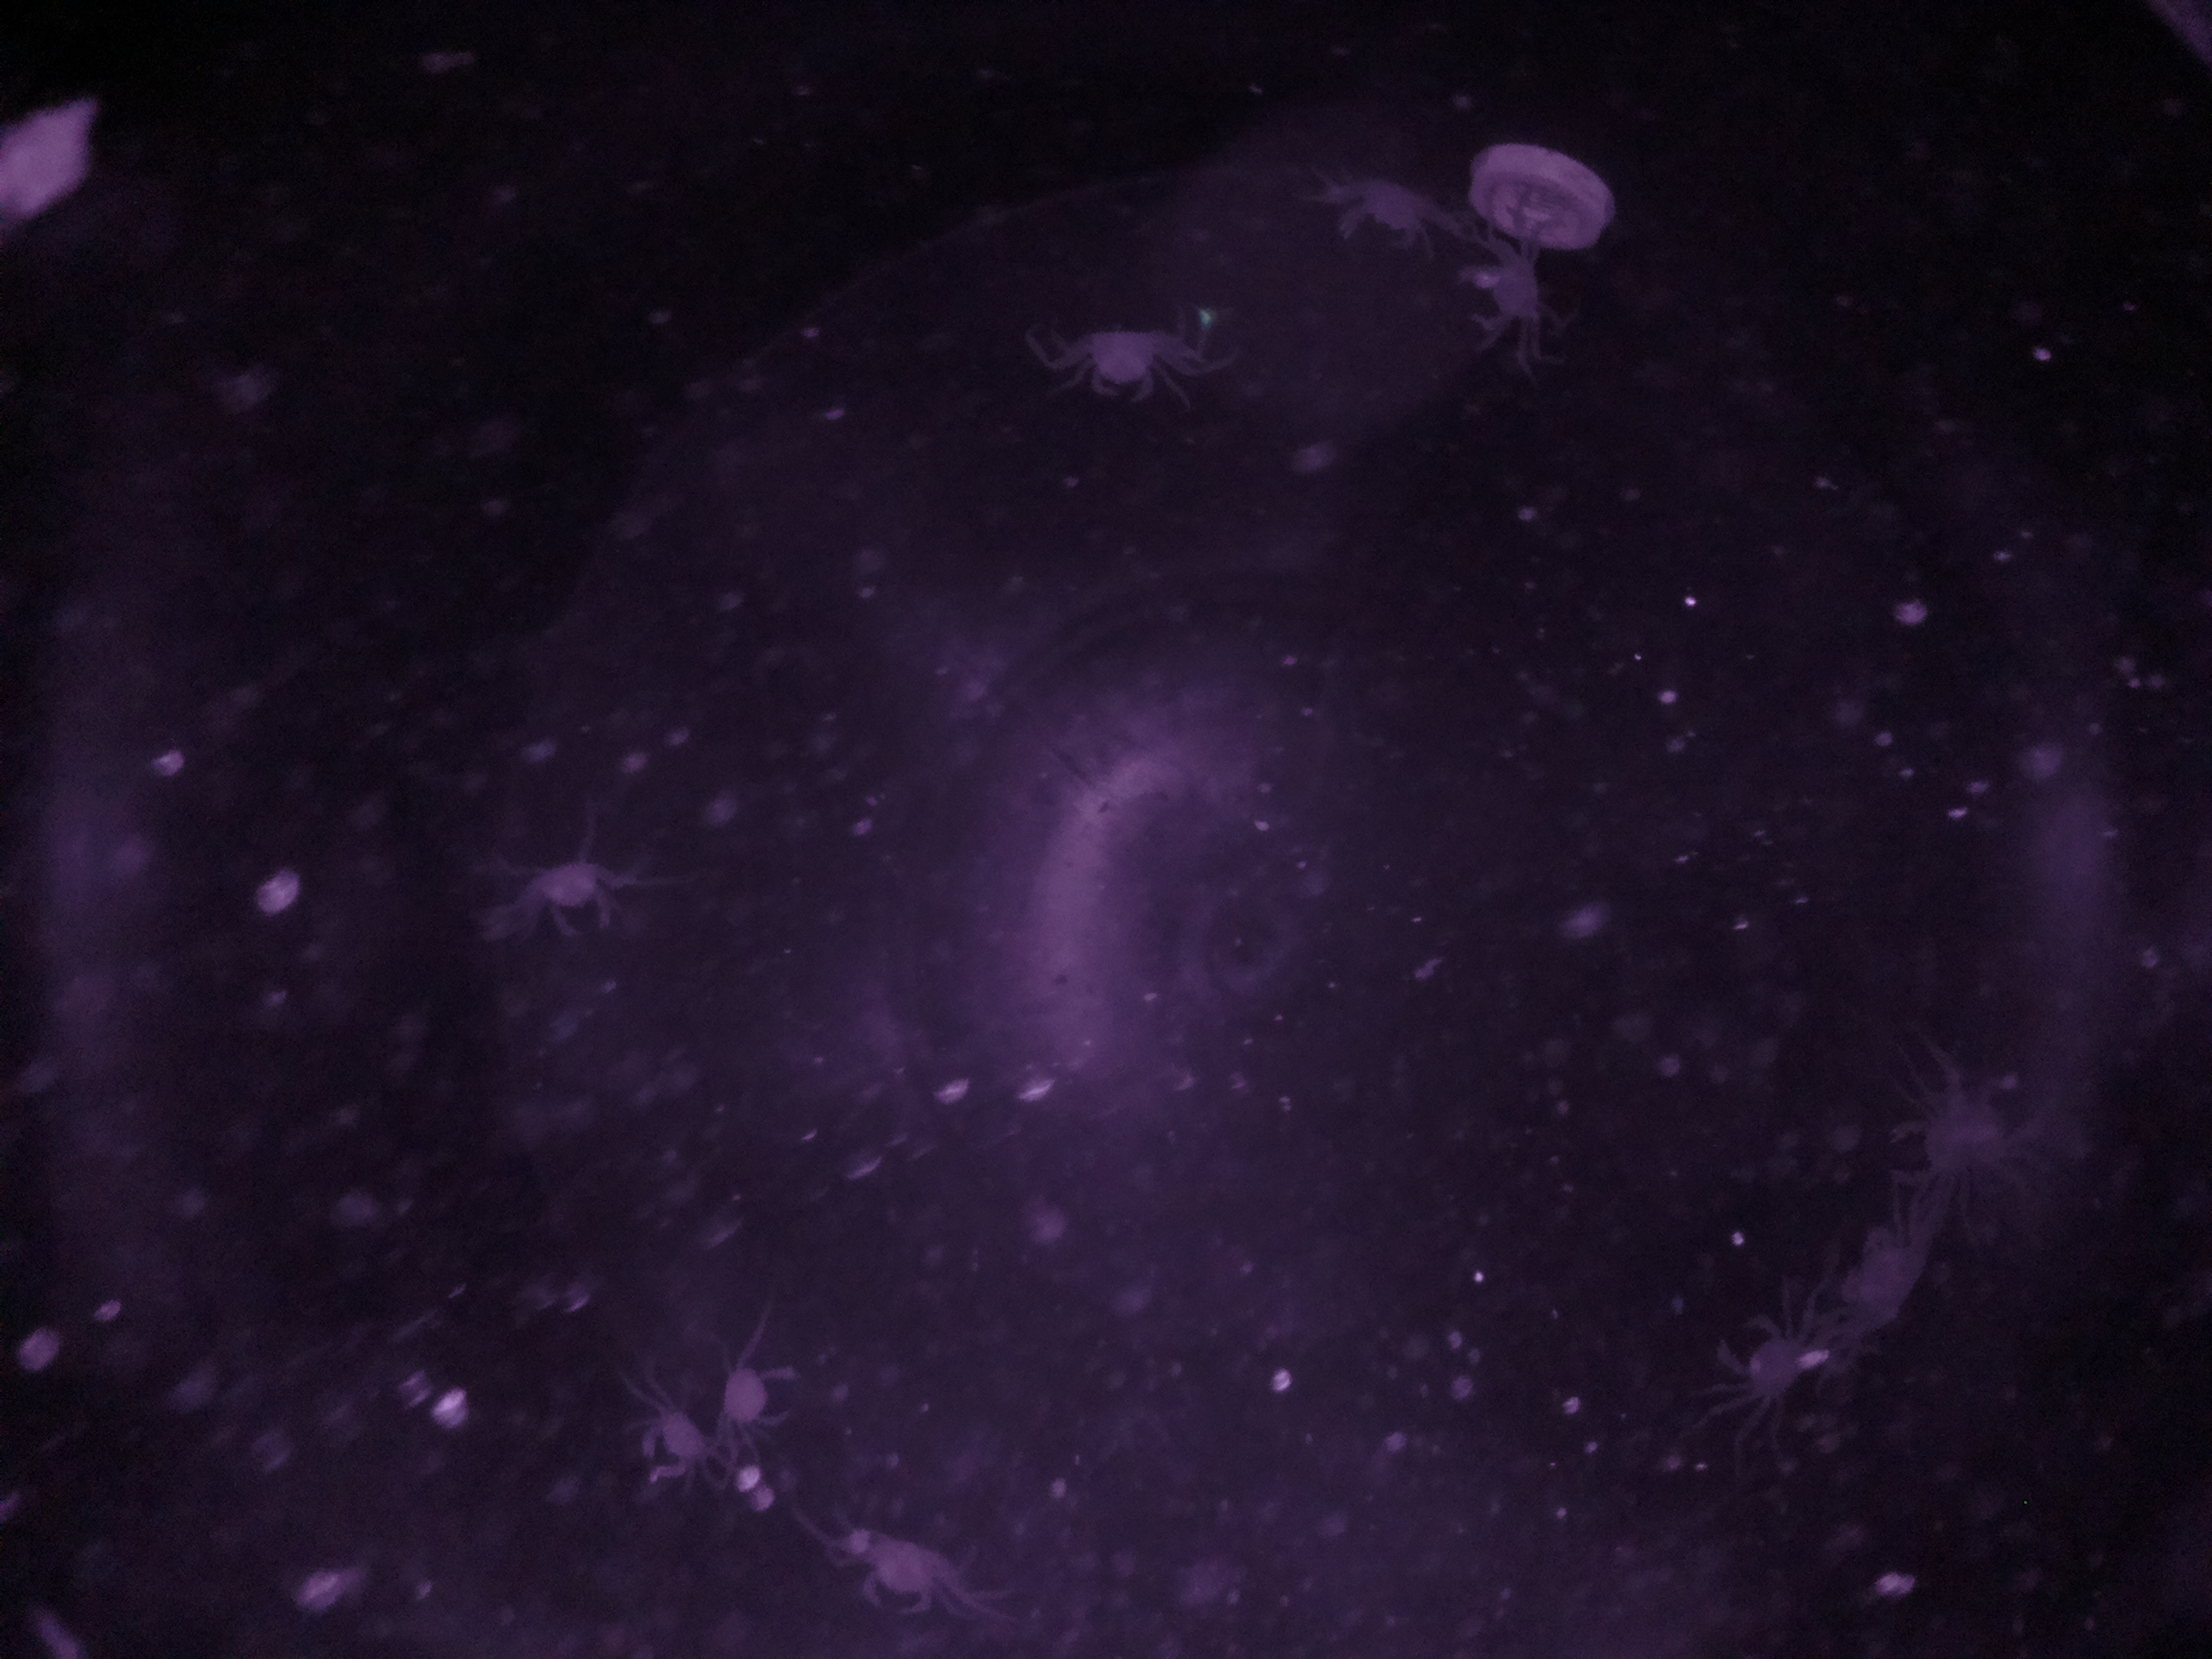Crab: (1871, 1089, 2031, 1204), (1829, 1204, 1946, 1331), (1322, 155, 1439, 270), (1446, 251, 1568, 361), (1712, 1305, 1824, 1422), (524, 835, 624, 957), (845, 1516, 951, 1628), (1078, 310, 1176, 418), (709, 1347, 817, 1439), (618, 1401, 719, 1492)
